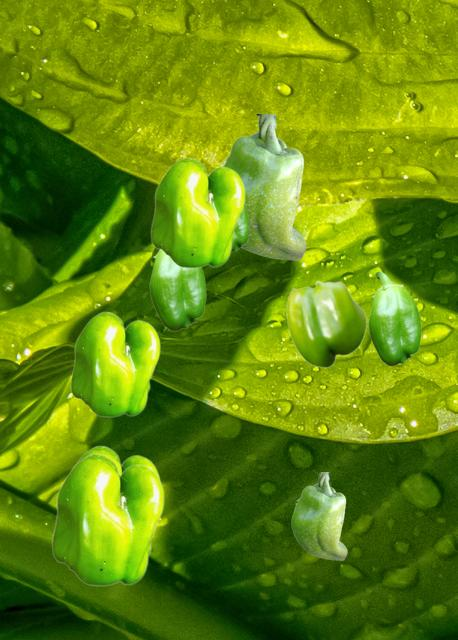bell_pepper: (51, 453, 163, 585), (219, 114, 305, 259), (150, 157, 244, 267), (70, 311, 159, 416), (286, 280, 366, 367), (368, 271, 420, 365), (291, 472, 346, 559), (149, 250, 205, 330), (76, 445, 159, 476), (232, 206, 248, 252)
